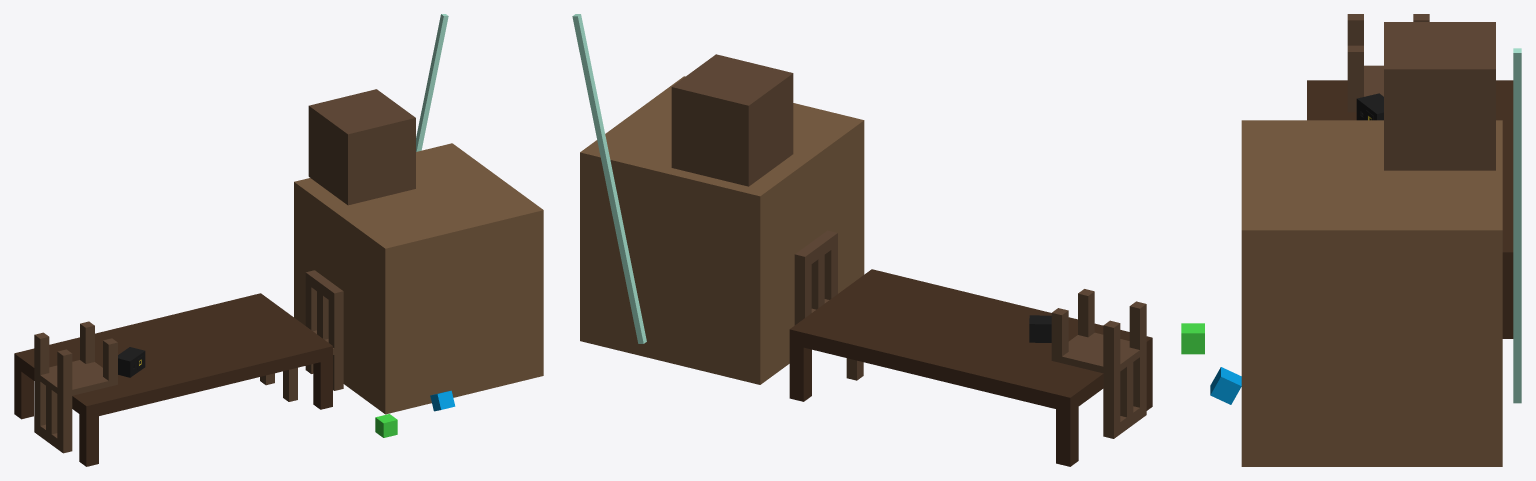
Rendered from Boxes and Table.gltf.
3 renders of one model, left to right at view 1: azimuth 30°, elevation 25°; view 2: azimuth 150°, elevation 25°; view 3: azimuth 270°, elevation 25°, orthographic. The views are drawn at different scales.
Visible parts, largest first — view 1: Cube, Table, Cube.001, Chair.001, Chair, Cube.002, Speaker Left; view 2: Cube, Table, Cube.001, Chair.001, Chair, Cube.002, Speaker Left; view 3: Cube, Cube.001, Table, Cube.002, Chair.001, Cube.004, Cube.003, Speaker Left.
Part boxes in pixels (left/top/right/bottom): Cube: left=294, top=143, right=543, bottom=414; Table: left=14, top=293, right=332, bottom=466; Cube.001: left=308, top=89, right=415, bottom=205; Chair.001: left=34, top=321, right=117, bottom=453; Chair: left=260, top=270, right=343, bottom=401; Cube.002: left=416, top=14, right=448, bottom=151; Speaker Left: left=118, top=347, right=145, bottom=377; Cube: left=580, top=76, right=864, bottom=384; Table: left=789, top=269, right=1152, bottom=466; Cube.001: left=671, top=54, right=793, bottom=186; Chair.001: left=1051, top=289, right=1146, bottom=438; Chair: left=794, top=230, right=863, bottom=380; Cube.002: left=572, top=14, right=646, bottom=343; Speaker Left: left=1029, top=315, right=1051, bottom=342; Cube: left=1241, top=120, right=1502, bottom=466; Cube.001: left=1384, top=22, right=1495, bottom=170; Table: left=1307, top=80, right=1513, bottom=338; Cube.002: left=1513, top=48, right=1521, bottom=403; Chair.001: left=1347, top=14, right=1429, bottom=112; Cube.004: left=1210, top=367, right=1241, bottom=404; Cube.003: left=1181, top=323, right=1204, bottom=354; Speaker Left: left=1356, top=93, right=1383, bottom=120.
Size of the model in its own units: 0.3315 by 0.2117 by 0.1543.
